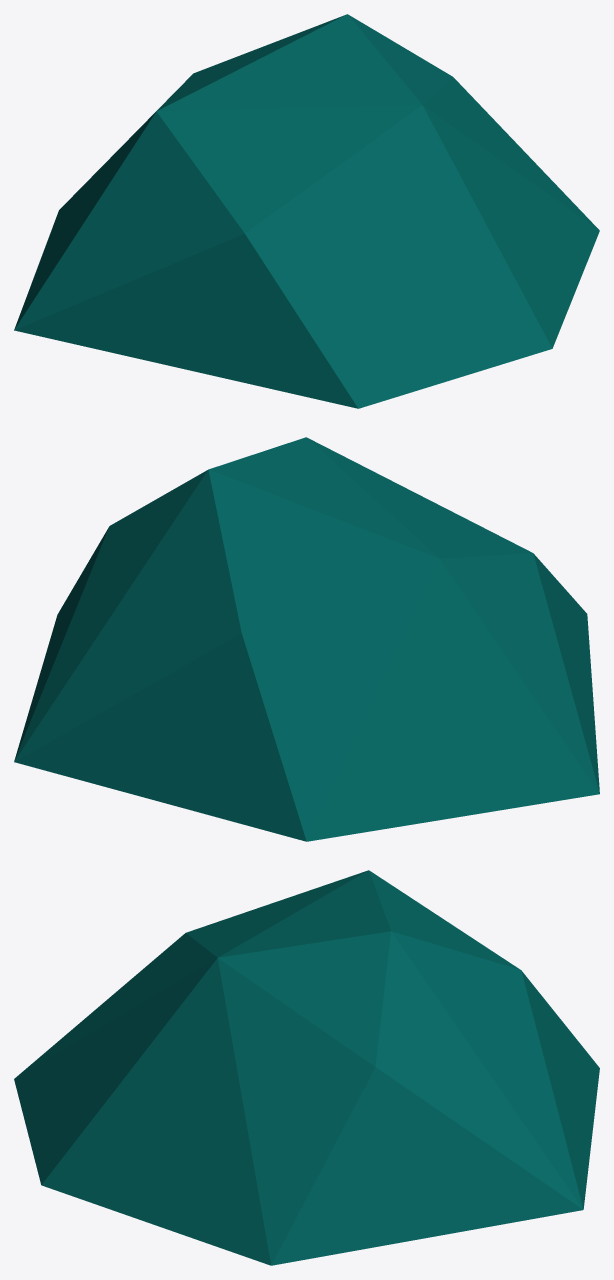
The model's file is Rock B.fbx.
3 views of the same model, one above another, from view 1: azimuth 30°, elevation 25°; view 2: azimuth 150°, elevation 25°; view 3: azimuth 270°, elevation 25° (orthographic). The views are drawn at different scales.
Parts seen in each view (by area): view 1: Plane002; view 2: Plane002; view 3: Plane002.
Part boxes in pixels (x1,y1,x2,y2): Plane002: (14,14,599,408); Plane002: (14,437,599,841); Plane002: (14,870,599,1265).
Bounding box in the file's own units: 20.44 × 8.02 × 18.19.
1 material, 1 textured.
